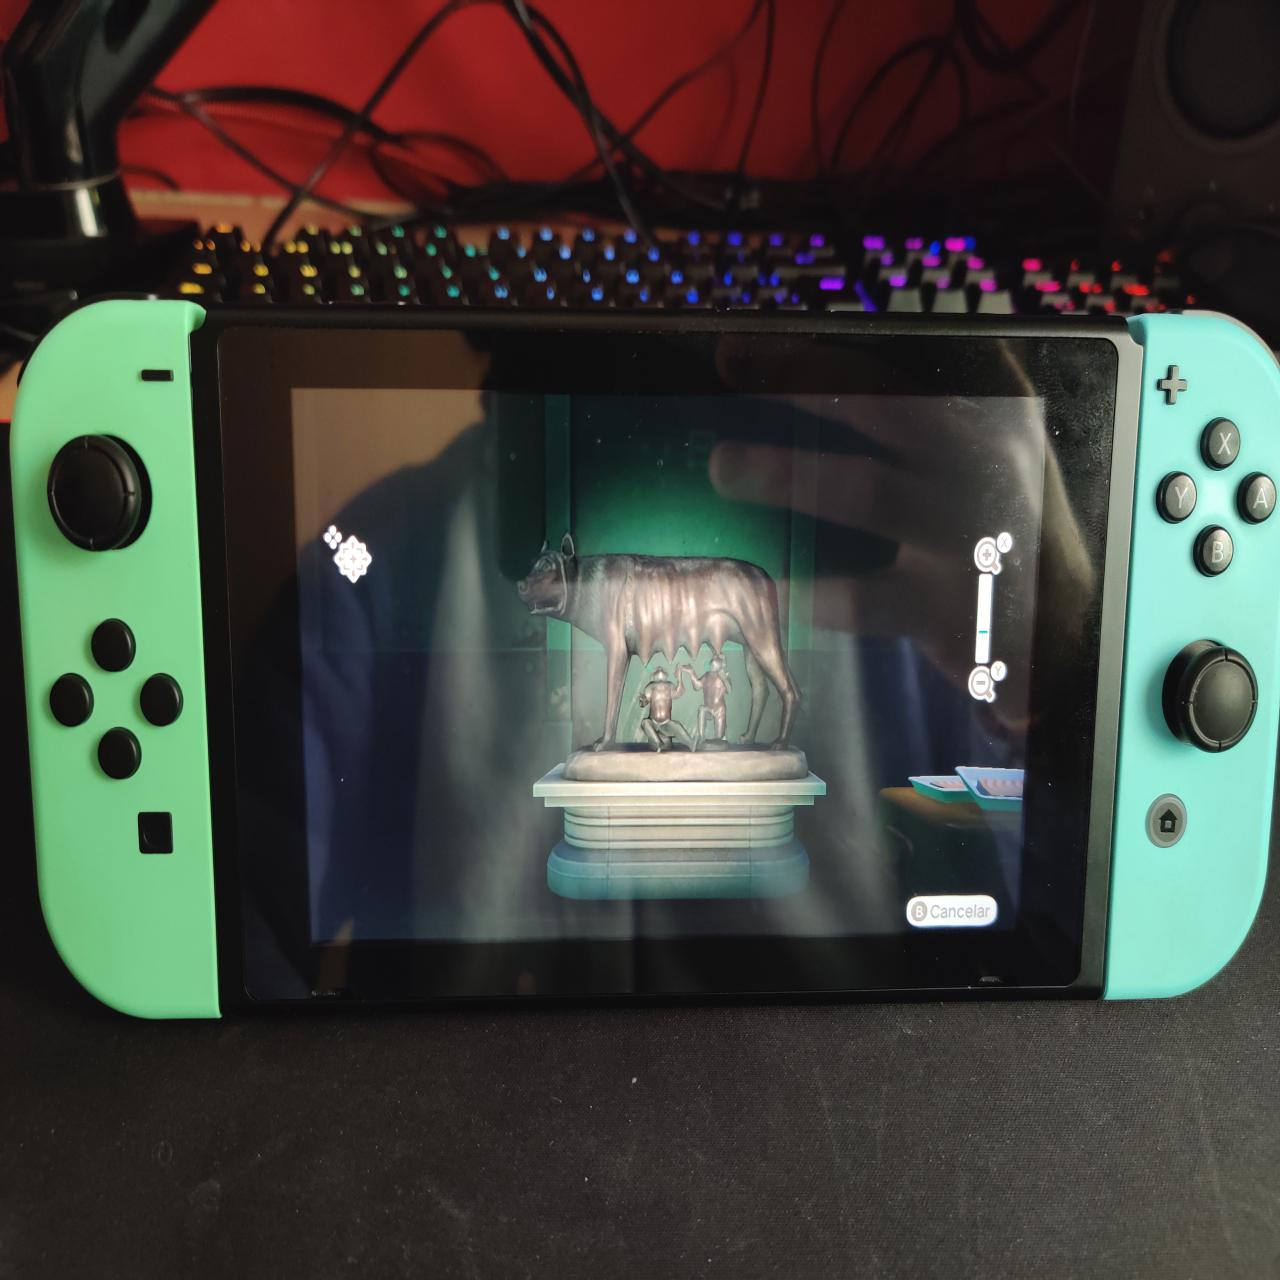Capitolini: (512, 526, 828, 787)
